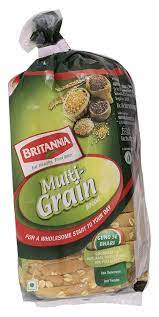bread: (9, 16, 154, 300), (0, 251, 33, 292)
